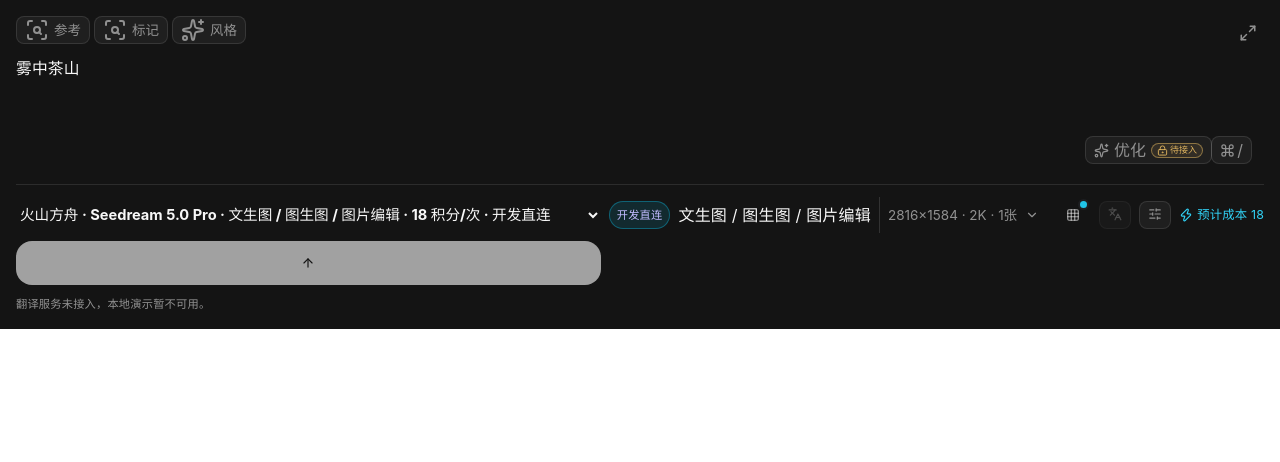
Test case: matches the Liblib image action bar and generation copy without legacy node actions
The image size is (1280, 462).
Expected: the buttons read "参考", "标记", "风格", in this order, [16,16,90,44]; [94,16,168,44]; [172,16,246,44]
Expected: the text "2816×1584 · 2K · 1张" is shown, [888,202,1017,228]
Click the button named "放大编辑区". click: (1247, 33)
box: [1230,16,1264,50]
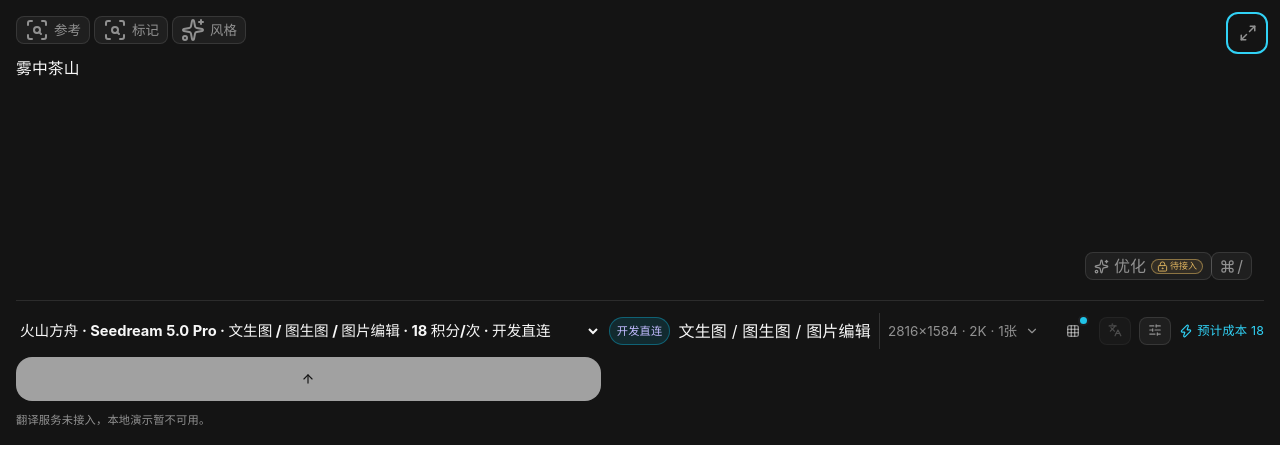
Expected: the button named "退出放大编辑区" is shown, [1230,16,1264,50]
